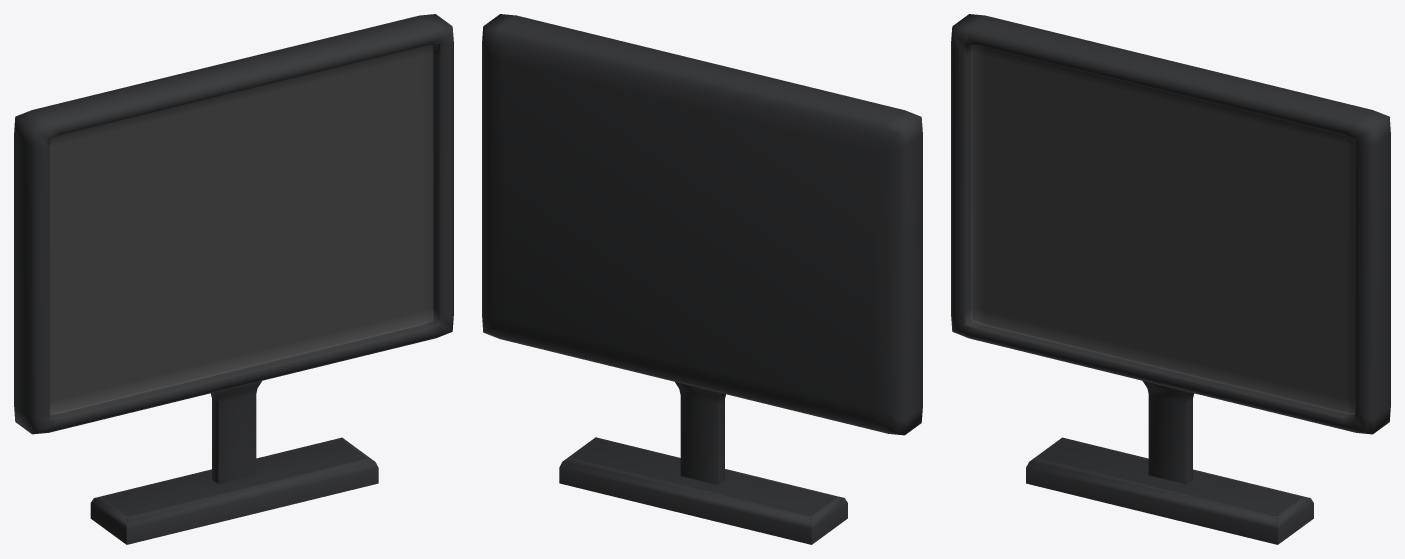
File: monitor.fbx
3 views of the same model, side by side, from view 1: azimuth 30°, elevation 25°; view 2: azimuth 150°, elevation 25°; view 3: azimuth 330°, elevation 25° (orthographic).
Visible parts, largest first — view 1: Monitor; view 2: Monitor; view 3: Monitor.
Boxes of the visible parts, left/top/right/bottom form: Monitor: left=14, top=14, right=453, bottom=544; Monitor: left=482, top=14, right=922, bottom=544; Monitor: left=951, top=14, right=1390, bottom=544.
Bounding box in the file's own units: 73.55 × 75.49 × 11.15.
